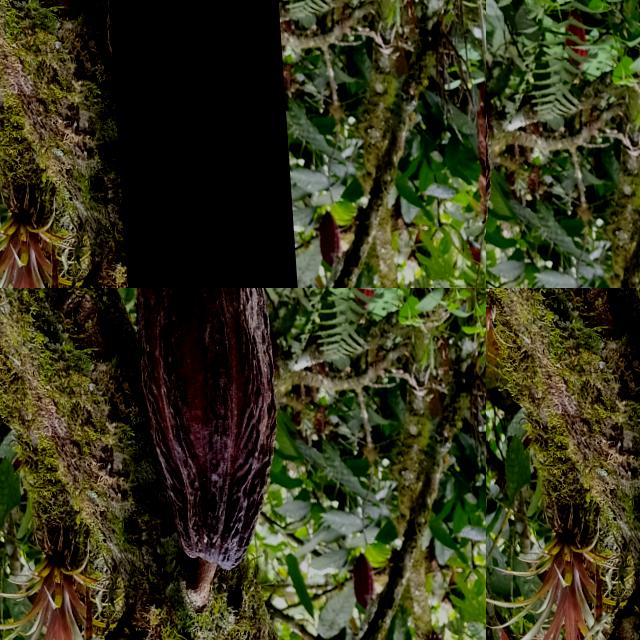Fitoftora: (96, 0, 289, 288), (486, 100, 580, 273)
